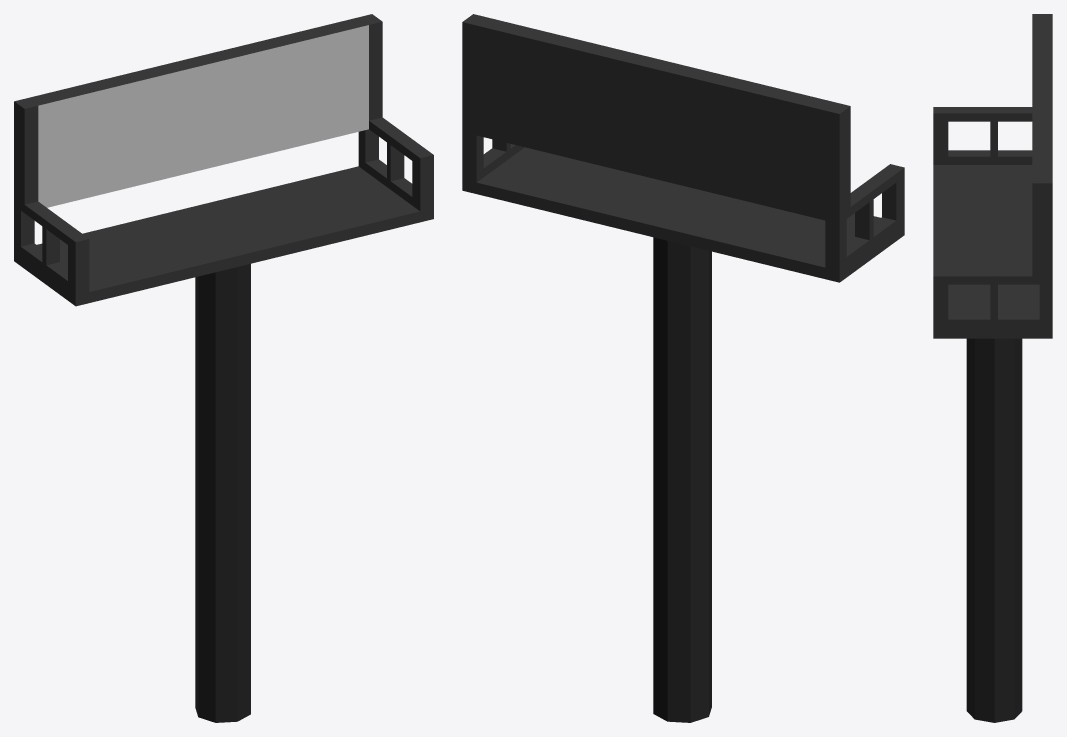
File: billboard.fbx
3 views of the same model, side by side, from view 1: azimuth 30°, elevation 25°; view 2: azimuth 150°, elevation 25°; view 3: azimuth 270°, elevation 25° (orthographic). The views are drawn at different scales.
Visible parts, largest first — view 1: Billboard; view 2: Billboard; view 3: Billboard.
Boxes of the visible parts, x1,y1,x2,y2 form: Billboard: (14,14,433,722); Billboard: (462,14,904,722); Billboard: (933,14,1052,722).
Size of the model in its own units: 2876 by 4848 by 858.
